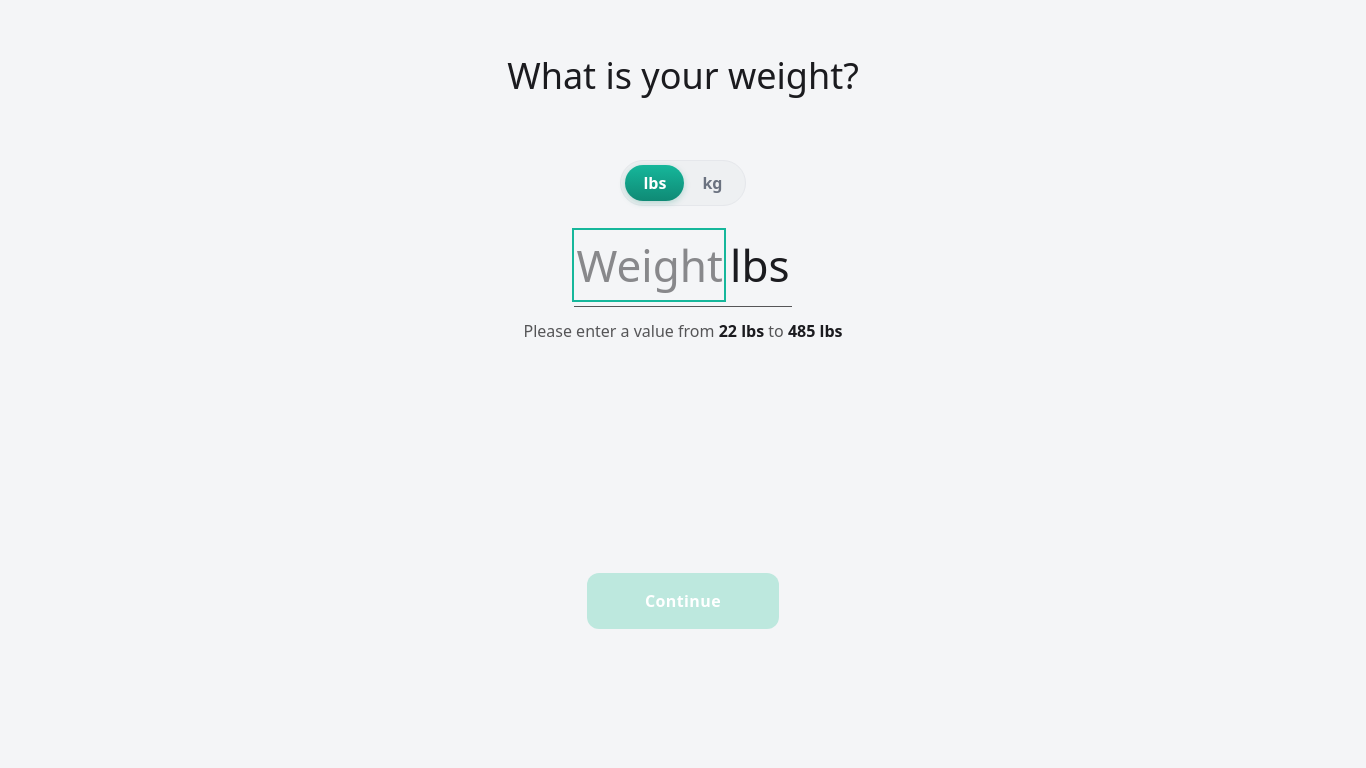
it: WeightPage — goal step › shows 'Maintain your weight' when goal equals current weight
The image size is (1366, 768).
Type "200" into the field named "Your weight in lbs". click: (649, 265)
box: [576,232,722,298]
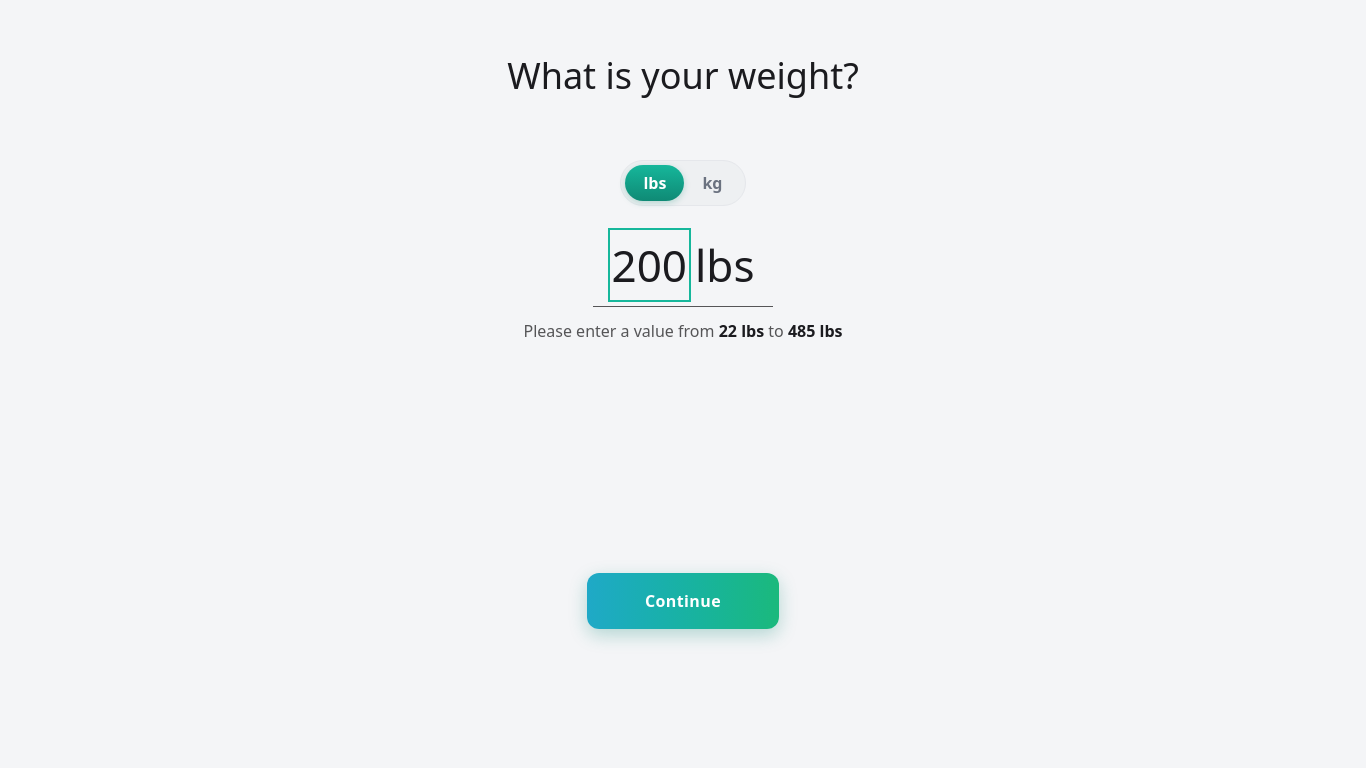
Click the button "Continue". click: (683, 601)
box: [587,573,779,629]
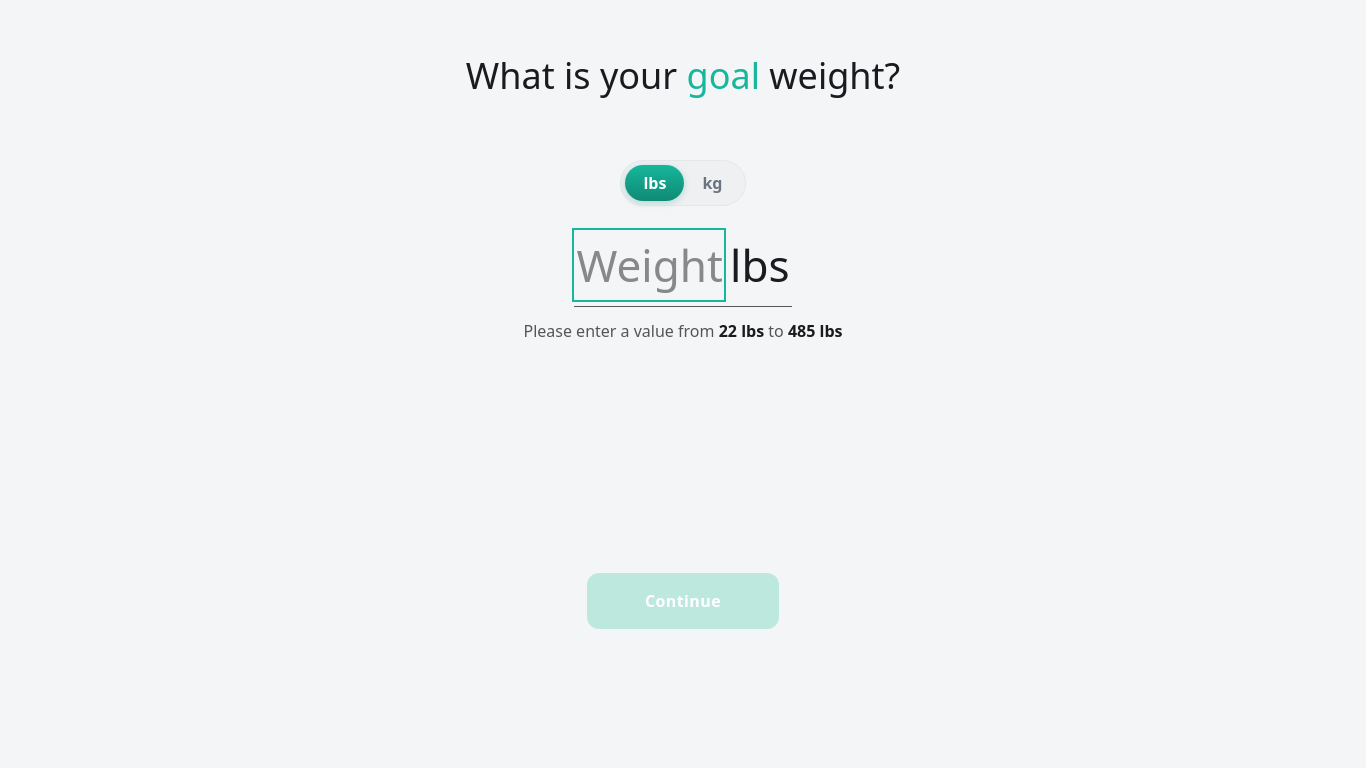
Type "200" into the field named "Goal weight in lbs". click: (649, 265)
box: [576,232,722,298]
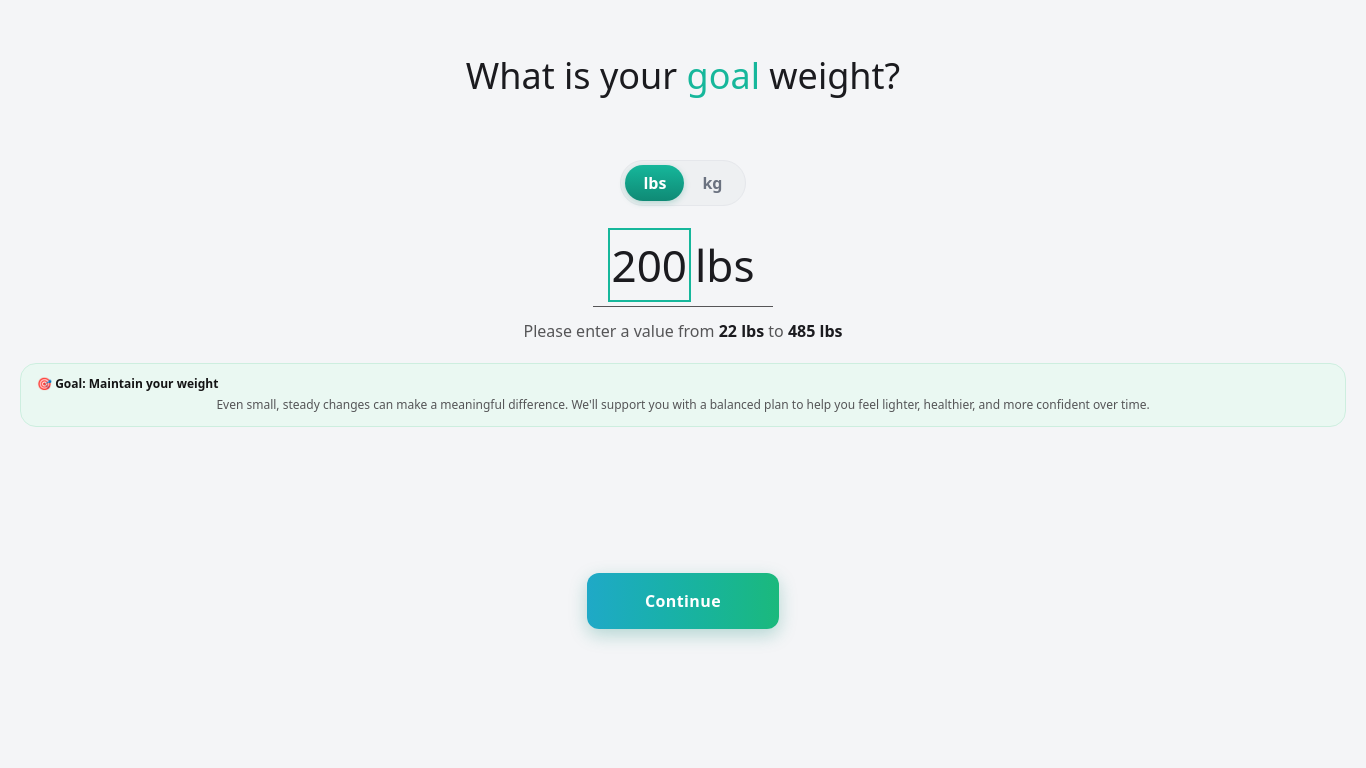
Result: the text "🎯 Goal: Maintain your weight" is shown at [37,375,218,392]
